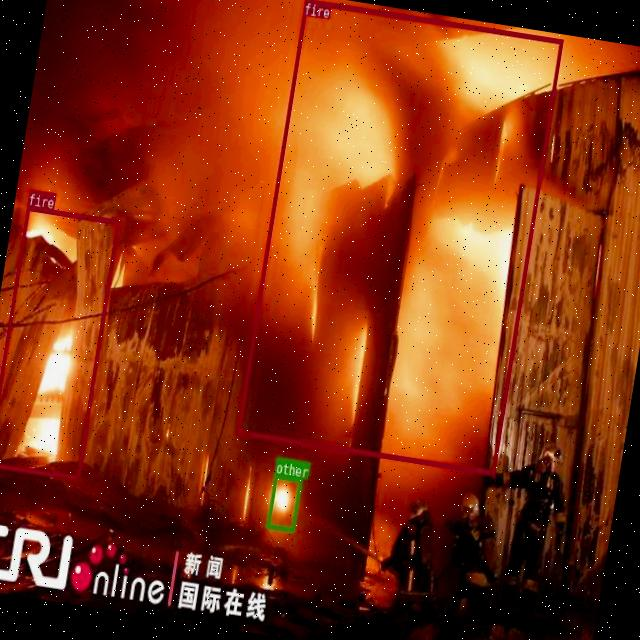fire: (236, 0, 563, 475), (0, 205, 119, 480)
